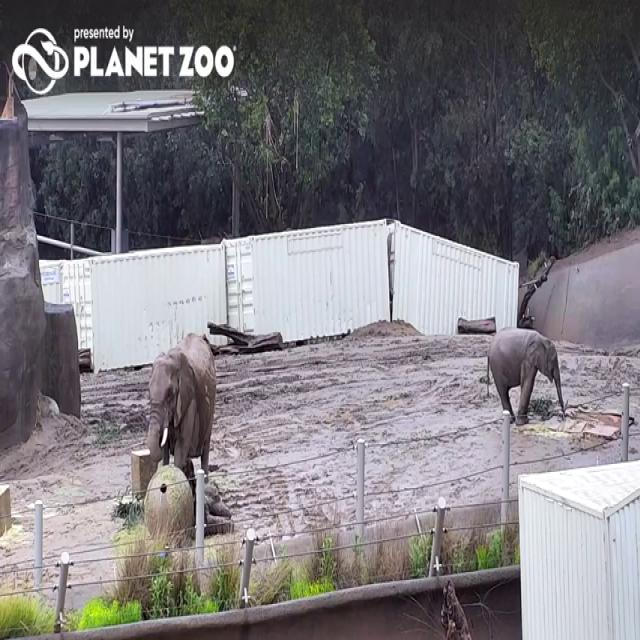Elephant: (146, 336, 218, 479), (486, 326, 565, 426)
